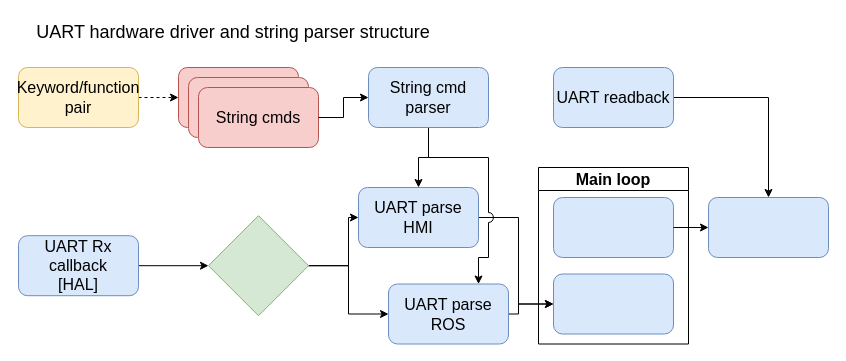
Some shapes in this 846 by 361 pixel diagram are drawn without their labels. The shapes that lost their labels are listed below. From the top down, each one's centre as x and y in pixels, then its label:
point (613, 227): Send telemetry
point (768, 227): UART transmit [HAL]
point (258, 265): Prep. statement XOR
point (613, 303): Joint controllers, CAN etc
